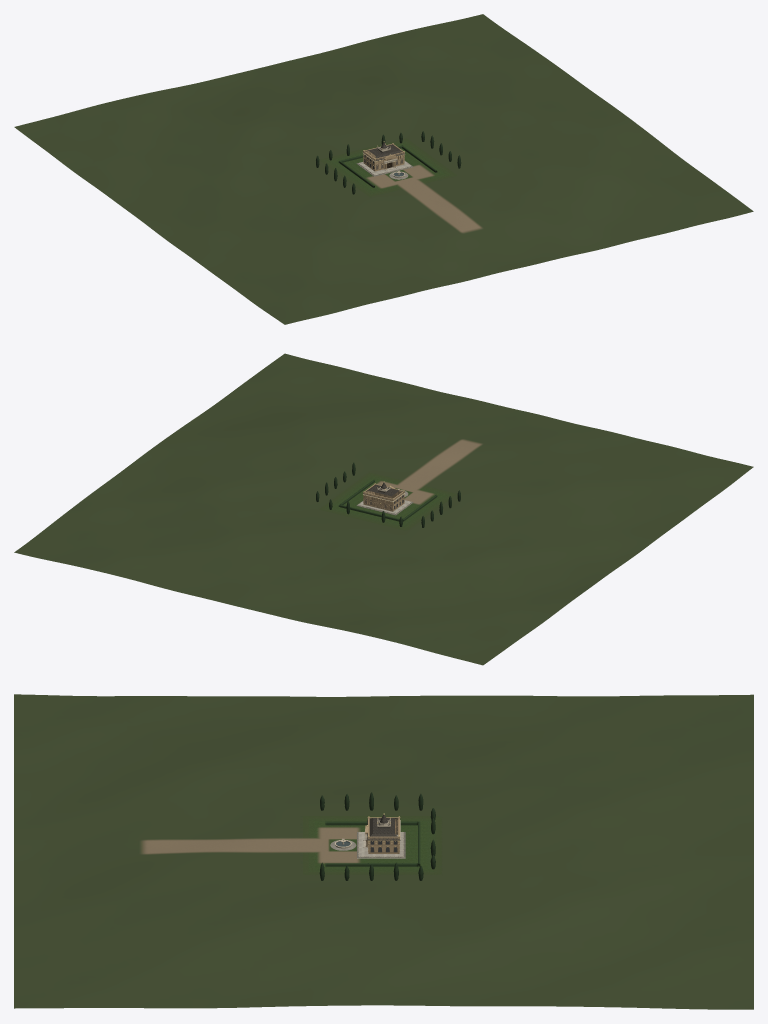
Rendered from exterior_mansion_v6_p34.glb.
The picture shows the model from 3 angles, top to bottom: view 1: azimuth 30°, elevation 25°; view 2: azimuth 150°, elevation 25°; view 3: azimuth 270°, elevation 25°; orthographic projection. The views are drawn at different scales.
Parts seen in each view (by area): view 1: ground_plane; view 2: ground_plane, mansion_walls; view 3: ground_plane, mansion_walls, mansion_roof.
Part boxes in pixels (left/top/right/bottom): ground_plane: left=14, top=14, right=753, bottom=324; ground_plane: left=14, top=353, right=753, bottom=665; mansion_walls: left=363, top=483, right=404, bottom=511; ground_plane: left=14, top=694, right=753, bottom=1009; mansion_walls: left=365, top=817, right=400, bottom=853; mansion_roof: left=367, top=818, right=400, bottom=840.
Bounding box in the file's own units: 240 × 14.7 × 240.
Materials: 15 (10 with a texture image).
